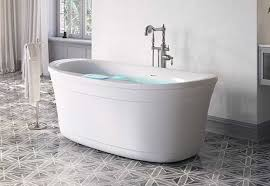bathub: (45, 54, 221, 163)
